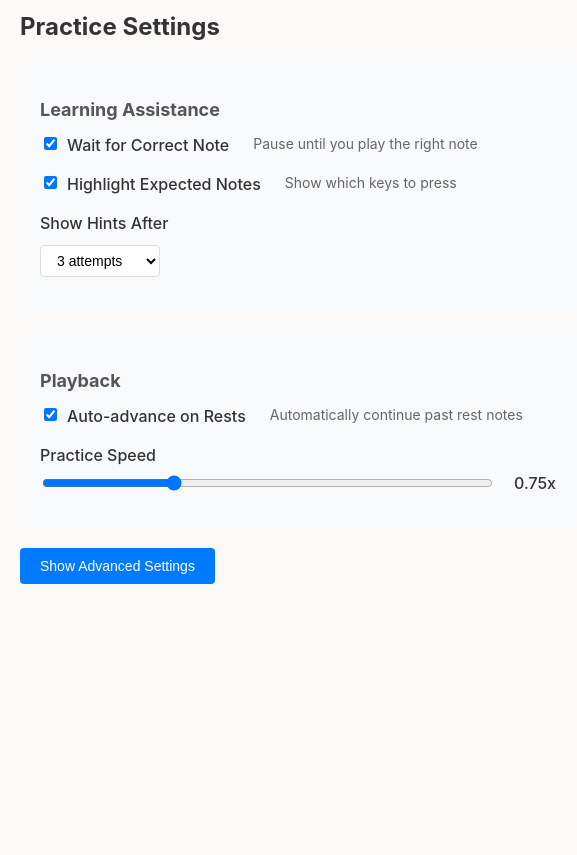
Test: Practice Settings UI › Advanced Settings › should show advanced settings on toggle
What coordinates should you click on to do the following:
click the button "Show Advanced Settings"
I would click on:
 (117, 566)
Its box is [20,548,215,584].
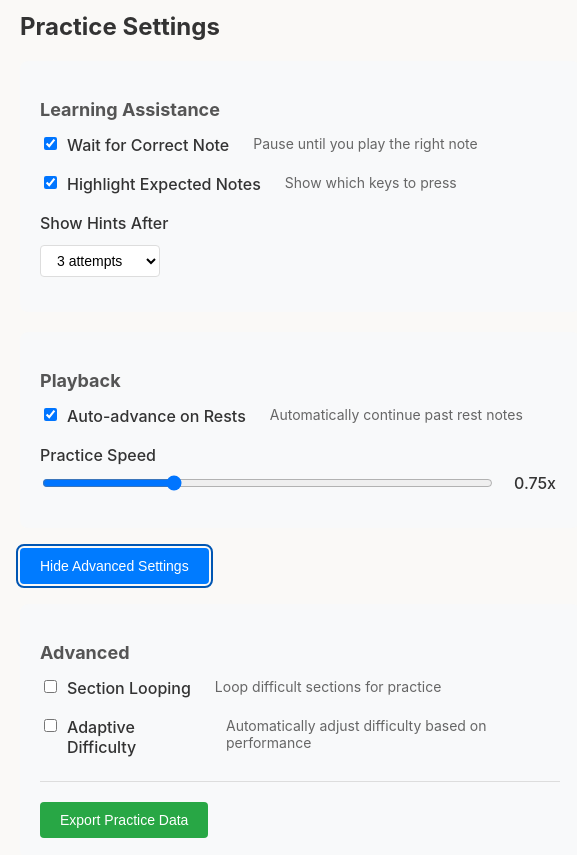
Check: the heading "Advanced" is shown, box [40,642,130,663]
Check: the text "Section Looping" is shown, box [67,678,191,698]
Check: the text "Adaptive Difficulty" is shown, box [67,717,136,757]
